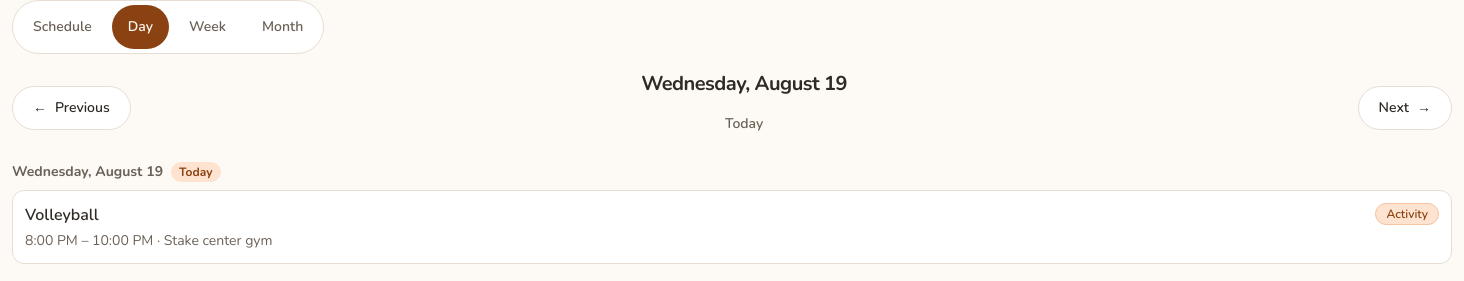
Test case: CalendarView › shows only the anchored day, and moves a day at a time
Check: the button "Day" is shown, box [112,5,169,49]
Check: the text "Volleyball" is shown, box [25,203,99,227]
Click the button with aria-label "Next day".
click(1405, 108)  # box [1358,86,1452,130]
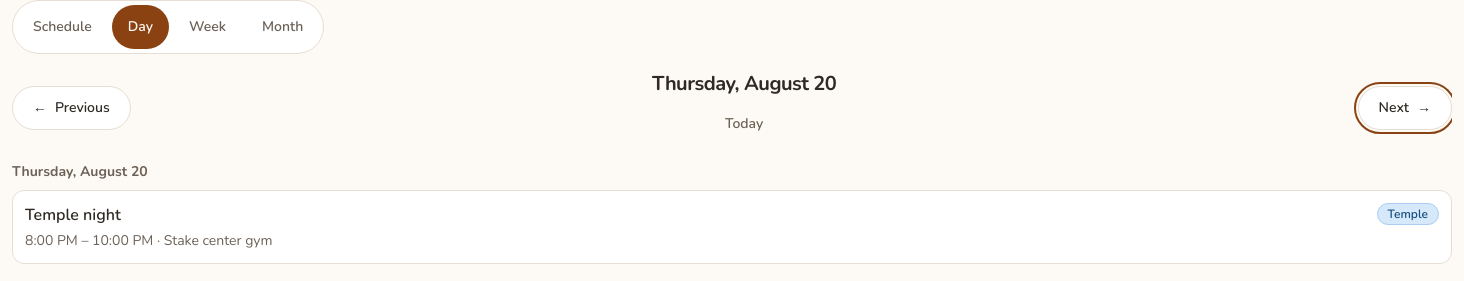
Check: the text "Temple night" is shown, box [25,203,121,227]
Check: the button "Volleyball" is gone
Click the button with aria-label "Previous day".
click(71, 108)  # box [12,86,131,130]
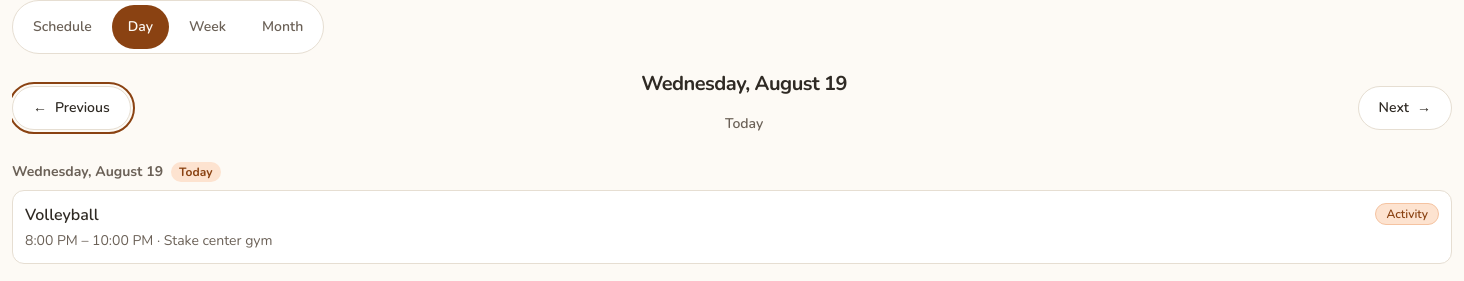
Check: the text "Volleyball" is shown, box [25,203,99,227]
